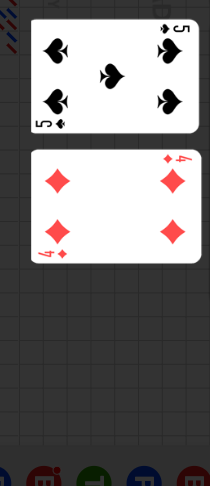4D: (38, 248, 69, 260)
5S: (158, 23, 191, 35)
